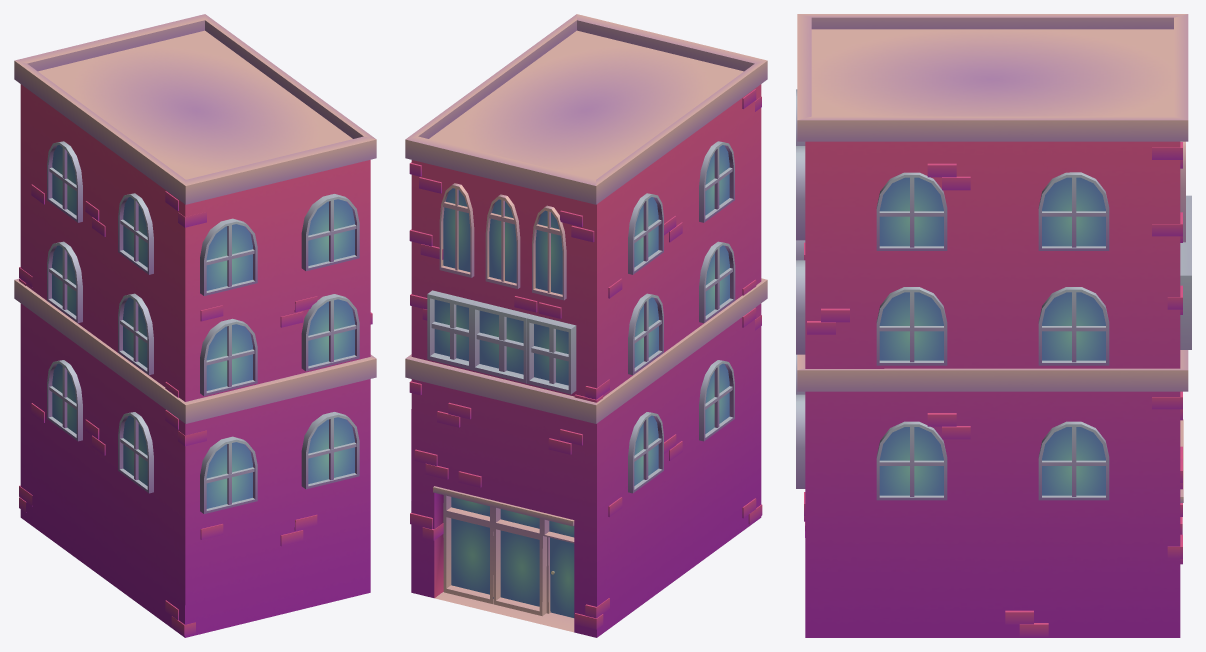
3 views of the same model, side by side, from view 1: azimuth 30°, elevation 25°; view 2: azimuth 150°, elevation 25°; view 3: azimuth 270°, elevation 25° (orthographic). The views are drawn at different scales.
Visible parts, largest first — view 1: SM_4F_02; view 2: SM_4F_02; view 3: SM_4F_02.
Part boxes in pixels (left/top/right/bottom): SM_4F_02: left=14, top=14, right=376, bottom=637; SM_4F_02: left=405, top=14, right=767, bottom=637; SM_4F_02: left=796, top=14, right=1191, bottom=637.
Size of the model in its own units: 6.01 by 9.26 by 13.41.
